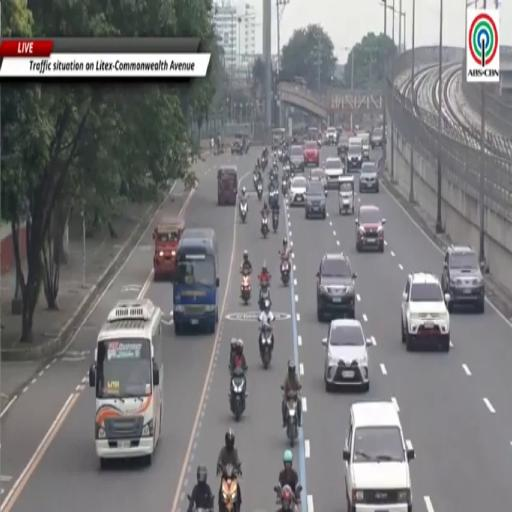bus: (89, 299, 163, 469), (173, 229, 219, 334), (272, 128, 285, 150)
car: (343, 402, 415, 511), (402, 272, 450, 351), (322, 319, 371, 391), (442, 246, 485, 313), (316, 252, 356, 321), (355, 205, 386, 252), (305, 181, 326, 218), (359, 162, 379, 193), (325, 157, 344, 188), (289, 175, 307, 205), (346, 146, 362, 171), (304, 141, 320, 166), (309, 167, 327, 188), (289, 146, 304, 171), (371, 126, 384, 149), (358, 133, 369, 159), (337, 135, 348, 156), (326, 127, 336, 145)
jeepney: (153, 217, 184, 281), (339, 175, 354, 214)
motorcycle: (218, 464, 241, 511), (230, 367, 247, 421), (274, 485, 302, 511), (286, 392, 299, 446), (259, 326, 273, 369), (188, 495, 214, 511), (241, 271, 251, 305), (259, 283, 271, 311), (280, 260, 290, 285), (269, 188, 278, 210), (239, 199, 247, 222), (261, 217, 269, 238), (256, 181, 263, 201), (254, 173, 261, 189), (273, 211, 278, 232), (282, 176, 287, 196), (262, 156, 267, 171), (278, 149, 282, 162), (317, 138, 321, 149)
